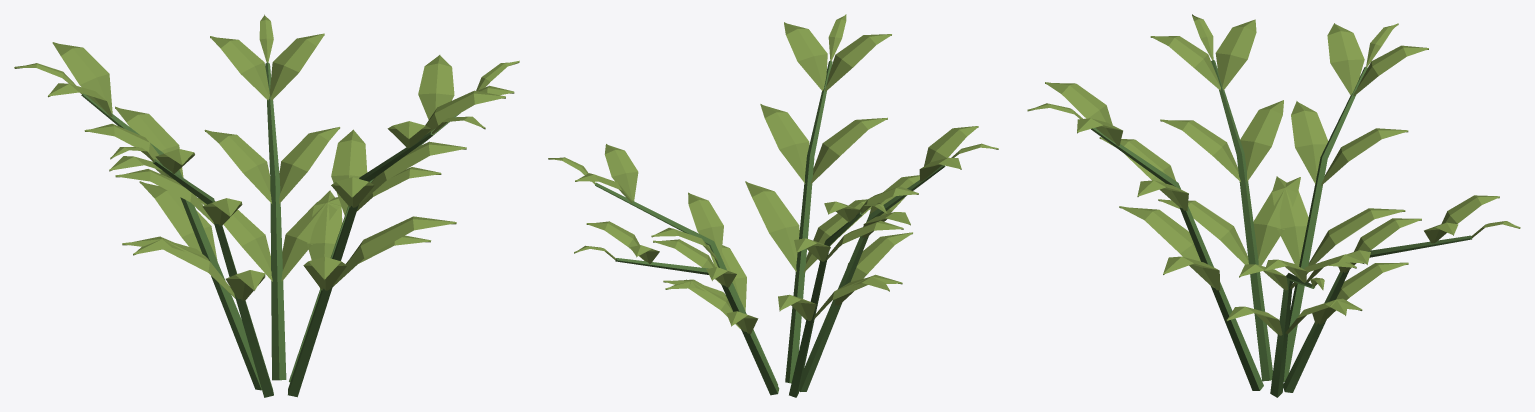
Rendered from crop_carrot_growing.glb.
The picture shows the model from 3 angles, left to right: view 1: azimuth 30°, elevation 25°; view 2: azimuth 150°, elevation 25°; view 3: azimuth 270°, elevation 25°; orthographic projection. The views are drawn at different scales.
Parts seen in each view (by area): view 1: carrot_frond_0_p_0_1, carrot_frond_0_rachis; view 2: carrot_frond_0_p_0_1, carrot_frond_0_rachis; view 3: carrot_frond_0_p_0_1, carrot_frond_0_rachis.
Part boxes in pixels (x1,y1,x2,y2): carrot_frond_0_p_0_1: (14,14,519,300); carrot_frond_0_rachis: (81,62,460,397); carrot_frond_0_p_0_1: (548,14,998,334); carrot_frond_0_rachis: (595,60,945,397); carrot_frond_0_p_0_1: (1027,14,1520,335); carrot_frond_0_rachis: (1091,60,1472,397).
Size of the model in its own units: 0.4665 by 0.3243 by 0.4663.
